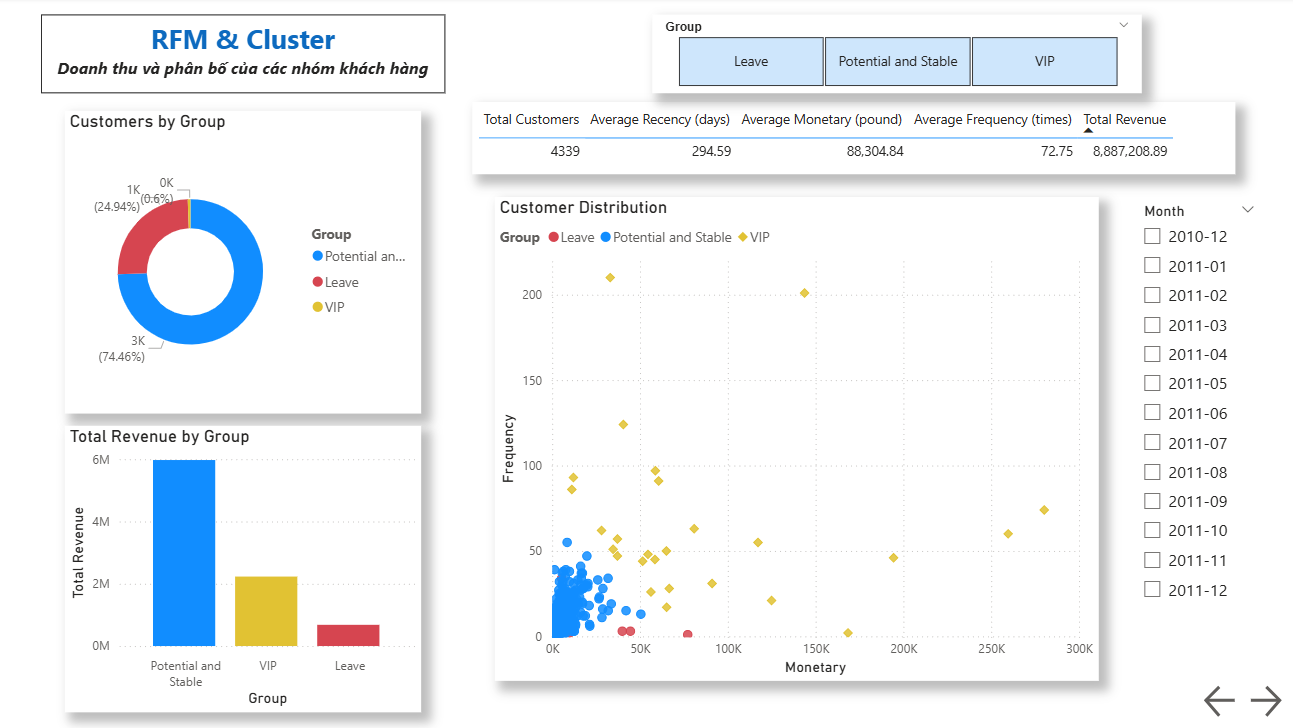

This screenshot's page, from the dashboard's own definition file:
{"tool":"powerbi","page":{"name":"RFM & Cluster","canvas":[1280,720],"ordinal":1},"visuals":[{"type":"donutChart","title":"Customers by Group","fields":{"Category":["cluster_summary.Group"],"Y":["Sum(cluster_summary.n_customers)"]},"box":[67.7,103.5,351,316.6],"z":0},{"type":"columnChart","fields":{"Y":["Fact.Total Revenue"],"Category":["cluster_summary.Group"]},"box":[67.7,454.5,351,266.1],"z":1000},{"type":"tableEx","fields":{"Values":["Sum(cluster_summary.n_customers)","Sum(cluster_summary.avg_recency)","Sum(cluster_summary.avg_monetary)","Sum(cluster_summary.avg_frequency)","Sum(cluster_summary.revenue)"]},"box":[523.5,103.5,729.2,71.4],"z":3000},{"type":"textbox","box":[28.3,17.2,300.5,37],"z":4000},{"type":"slicer","fields":{"Values":["cluster_summary.Group"]},"box":[646.7,17.2,484.1,67.7],"z":4002},{"type":"slicer","fields":{"Values":["Date.Month"]},"box":[1118.4,232.8,134.3,421.3],"z":4003},{"type":"scatterChart","fields":{"Y":["customers_rfm.Frequency"],"X":["customers_rfm.Monetary"],"Series":["cluster_summary.Group"]},"box":[491.5,197.1,594.9,476.7],"z":4004}]}

Visuals, with their boxes in screenshot pixels (x1, y1, x2, y2), scaled from the page's 1280x720 canvas onto the 1293x728 screenshot:
"Customers by Group" donutChart: (left=68, top=105, right=423, bottom=425)
columnChart - Fact.Total Revenue x cluster_summary.Group: (left=68, top=460, right=423, bottom=727)
tableEx - Sum(cluster_summary.n_customers) x Sum(cluster_summary.avg_recency): (left=529, top=105, right=1265, bottom=177)
textbox: (left=29, top=17, right=332, bottom=55)
slicer - cluster_summary.Group: (left=653, top=17, right=1142, bottom=86)
slicer - Date.Month: (left=1130, top=235, right=1265, bottom=661)
scatterChart - customers_rfm.Frequency x customers_rfm.Monetary: (left=496, top=199, right=1097, bottom=681)
